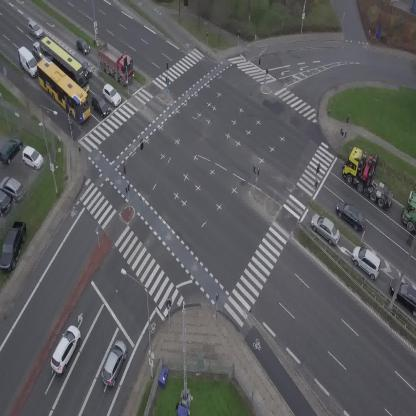bus: (29, 54, 100, 124), (33, 34, 99, 93)
car: (46, 322, 85, 375), (97, 338, 132, 388), (346, 243, 387, 280), (330, 197, 371, 233), (306, 210, 345, 247), (98, 82, 124, 108), (87, 92, 112, 119), (71, 35, 93, 57), (23, 18, 45, 40), (73, 53, 94, 72), (31, 41, 39, 59)
lorry: (334, 142, 410, 211), (88, 37, 142, 88), (11, 44, 43, 80), (402, 193, 416, 232)
